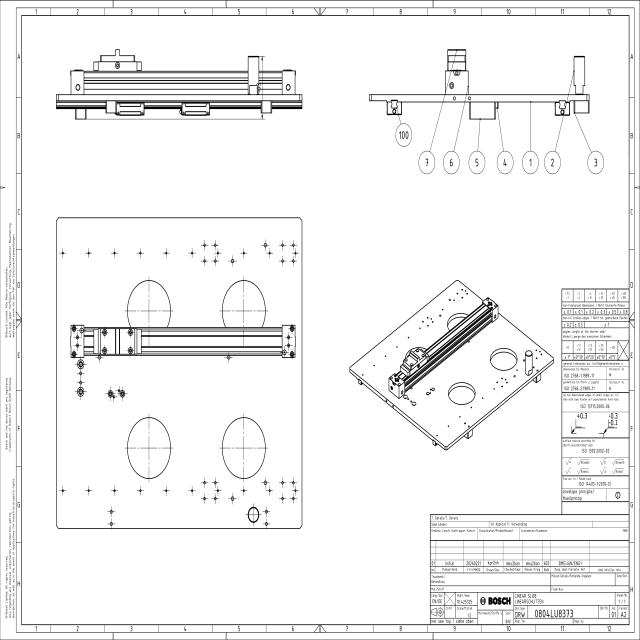dimension: (256, 52, 266, 122)
